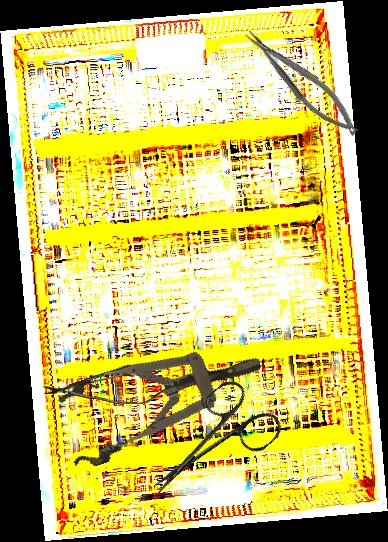Iris Scissors: (130, 371, 287, 522)
Micro Scissor: (42, 371, 174, 408)
Needle Holder: (239, 19, 366, 145)
Speculum: (49, 323, 275, 473)
